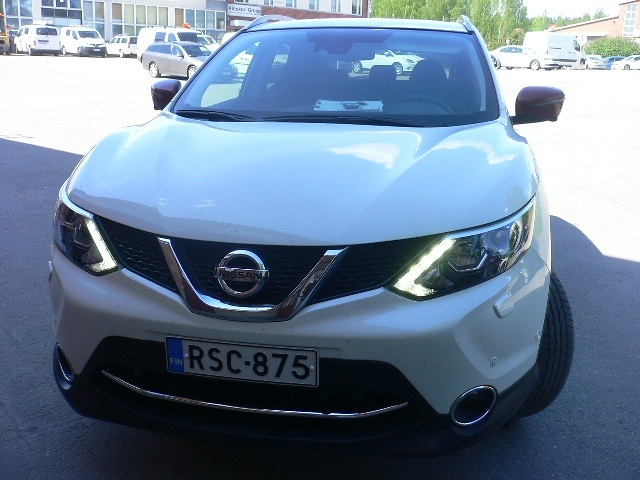license: (166, 334, 319, 391)
